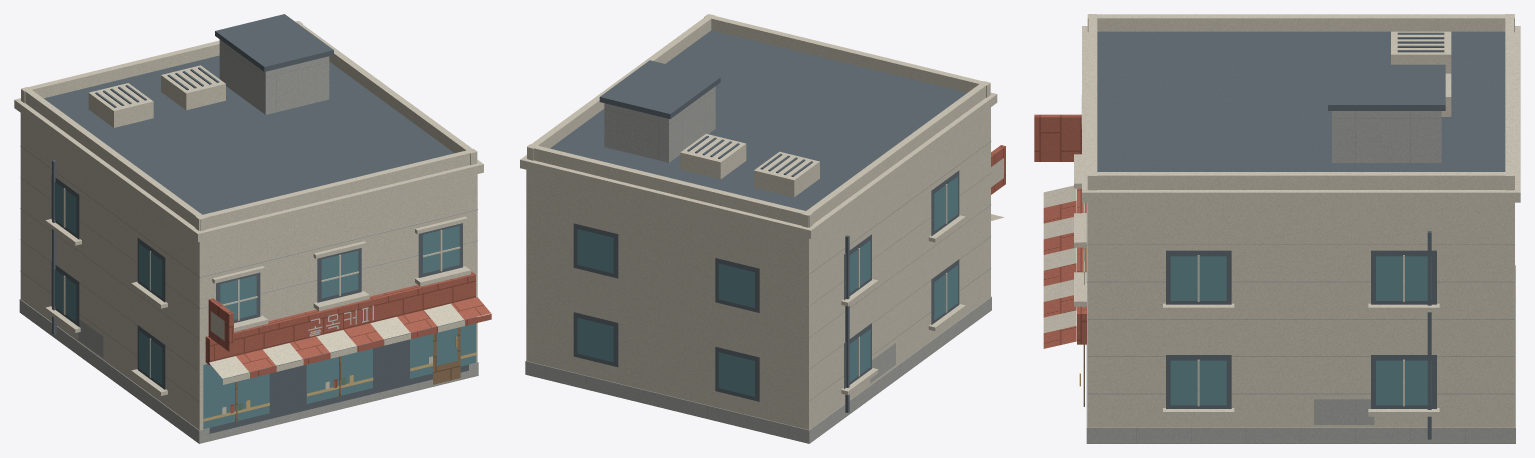
Rendered from q01-cafe.glb.
3 views of the same model, side by side, from view 1: azimuth 30°, elevation 25°; view 2: azimuth 150°, elevation 25°; view 3: azimuth 270°, elevation 25° (orthographic). The views are drawn at different scales.
Bounding box in the file's own units: 7.34 × 6.31 × 8.87.
9 materials, 8 textured.
